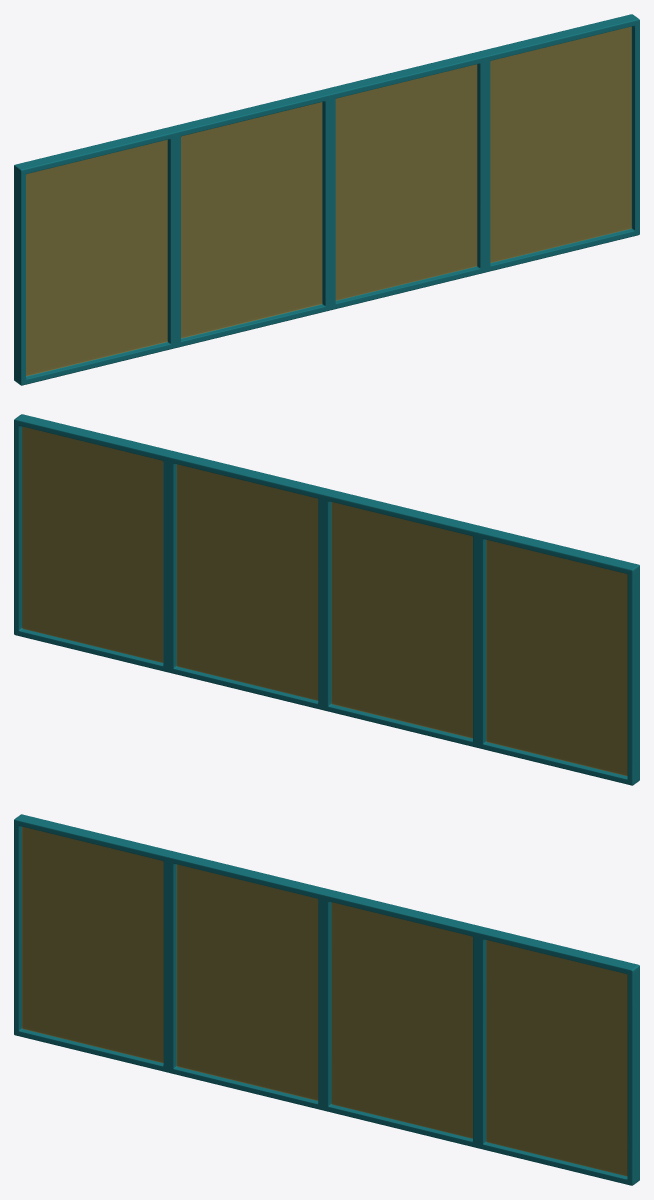
Rendered from ClassroomWindow.fbx.
3 views of the same model, one above another, from view 1: azimuth 30°, elevation 25°; view 2: azimuth 150°, elevation 25°; view 3: azimuth 330°, elevation 25° (orthographic).
Parts seen in each view (by area): view 1: ClassroomWindow_High (×2); view 2: ClassroomWindow_High (×2); view 3: ClassroomWindow_High (×2).
Part boxes in pixels (left/top/right/bottom): ClassroomWindow_High (×2): left=14, top=14, right=639, bottom=385; ClassroomWindow_High (×2): left=14, top=414, right=639, bottom=785; ClassroomWindow_High (×2): left=14, top=814, right=639, bottom=1185.
Bounding box in the file's own units: 24 × 8 × 0.5.
